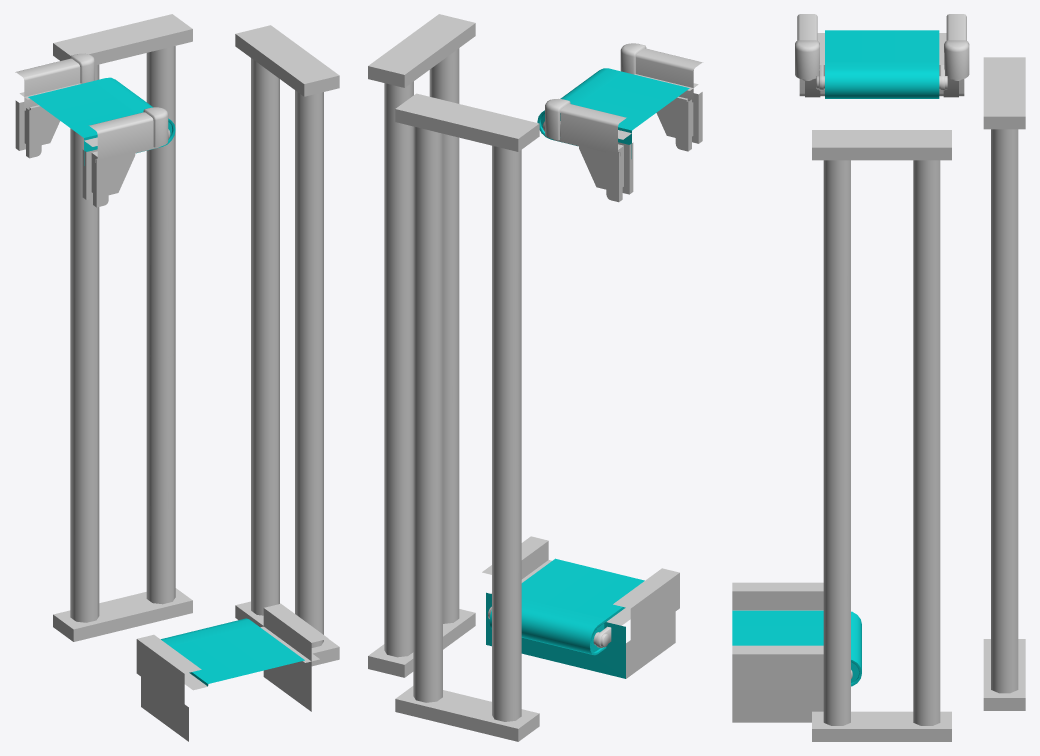
Rendered from Lift2UpLeftInternalVariant.gltf.
3 views of the same model, side by side, from view 1: azimuth 30°, elevation 25°; view 2: azimuth 150°, elevation 25°; view 3: azimuth 270°, elevation 25° (orthographic). The views are drawn at different scales.
Visible parts, largest first — view 1: Lift_2UpLeft_Layer0_LOD0; view 2: Lift_2UpLeft_Layer0_LOD0; view 3: Lift_2UpLeft_Layer0_LOD0.
Part boxes in pixels (x1,y1,x2,y2): Lift_2UpLeft_Layer0_LOD0: (15, 14, 339, 741); Lift_2UpLeft_Layer0_LOD0: (368, 14, 702, 741); Lift_2UpLeft_Layer0_LOD0: (732, 14, 1025, 741).
Size of the model in its own units: 0.9812 by 2.27 by 0.9812.
